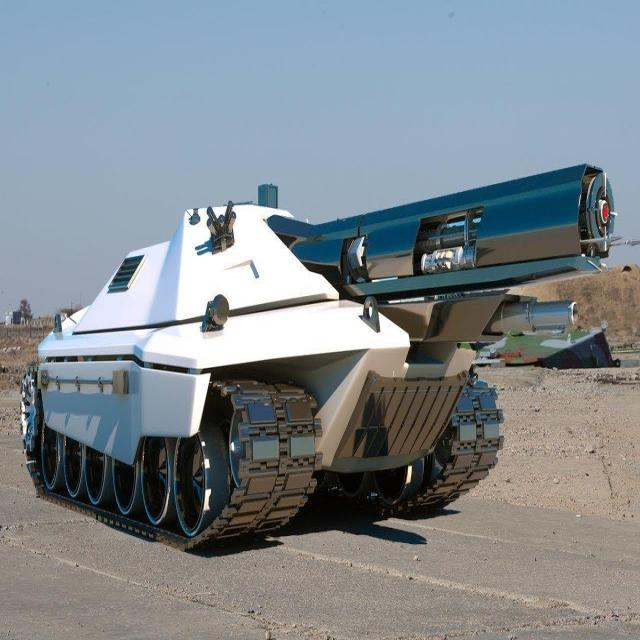Tanks: (15, 33, 573, 617)
